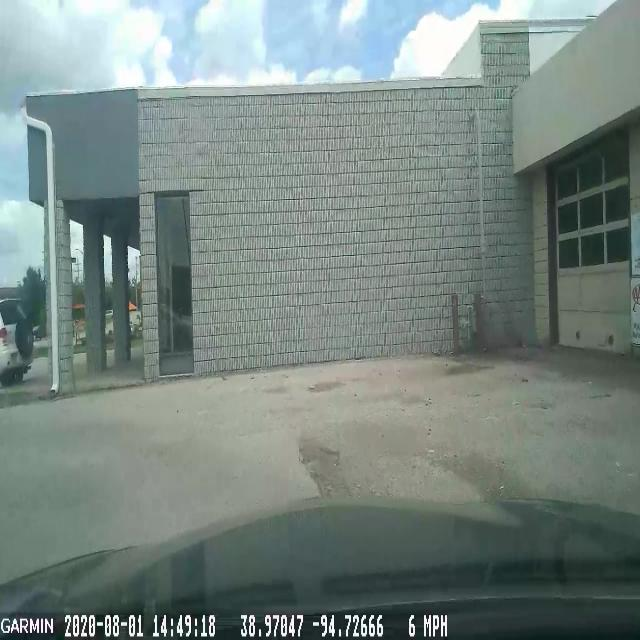Pothole: (295, 430, 357, 494)
